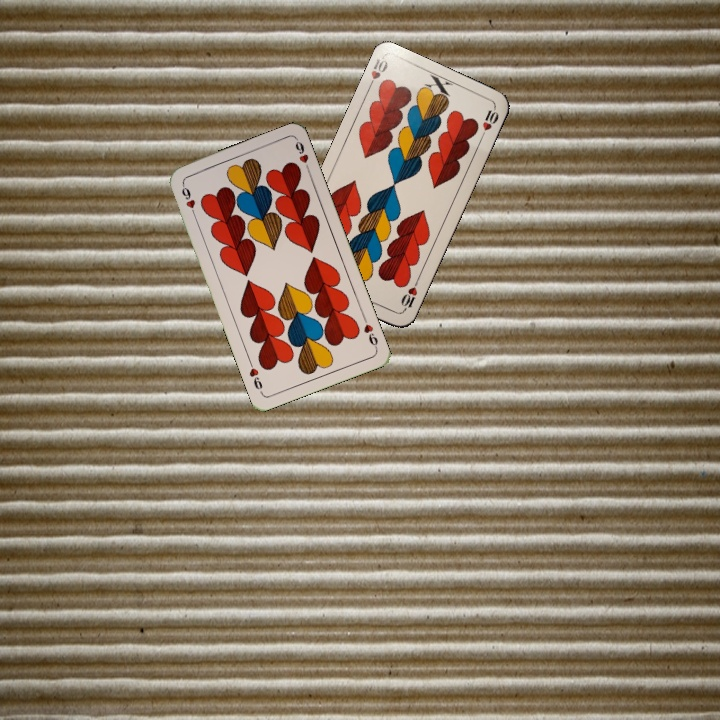H10: (363, 53, 391, 93), (397, 277, 421, 315)
H9: (359, 312, 380, 352), (178, 180, 199, 219)
